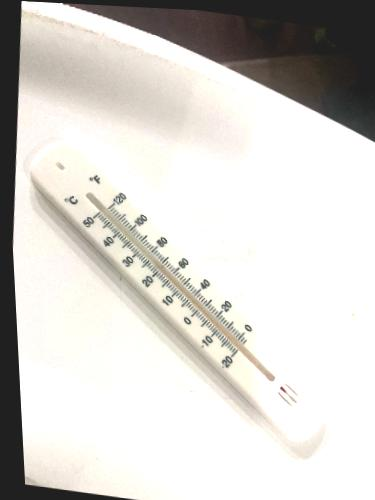thermo: (26, 132, 336, 443)
